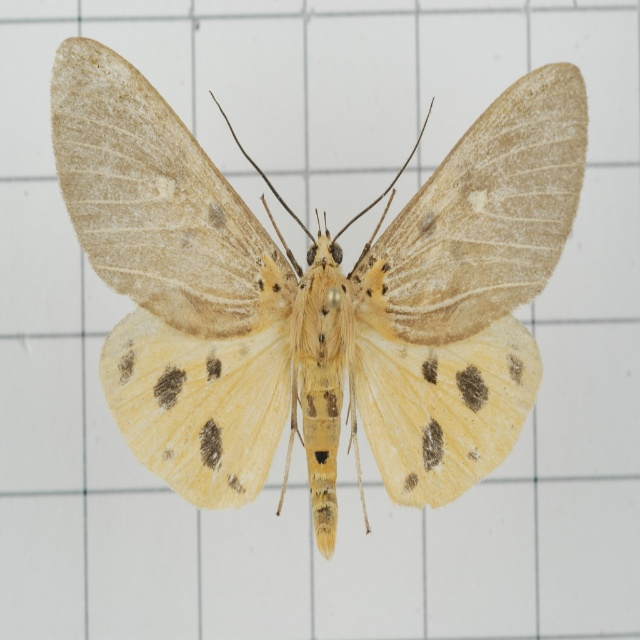Butterfly: (50, 25, 605, 570)
